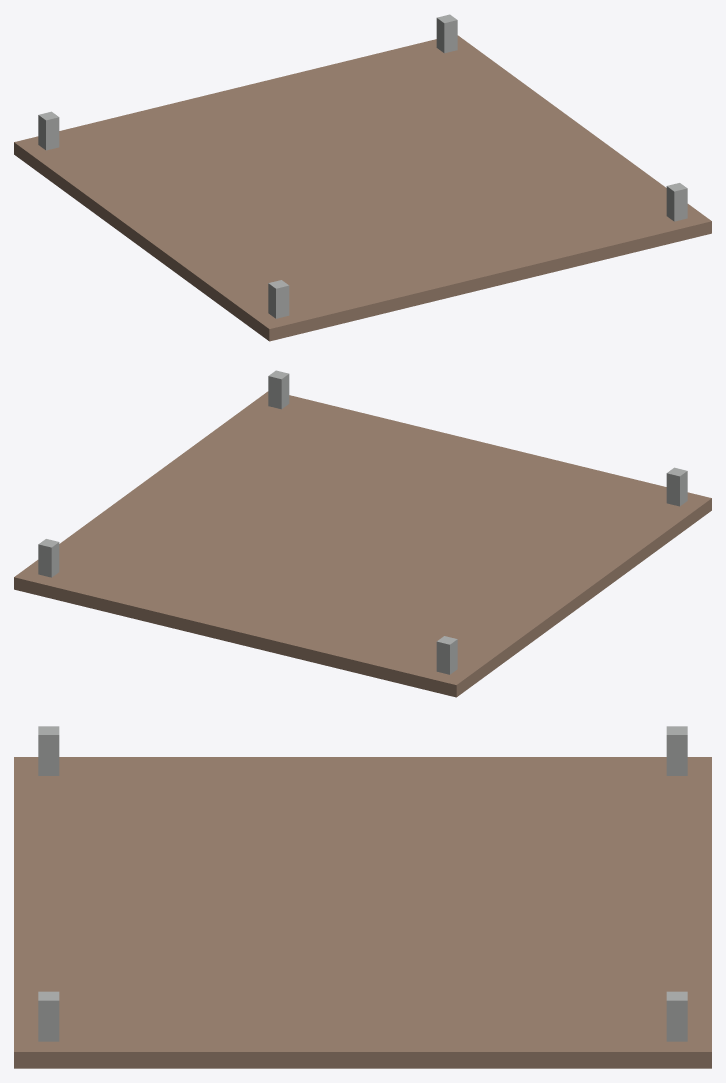
File: martial_training_yard_6m.glb
The picture shows the model from 3 angles, top to bottom: view 1: azimuth 30°, elevation 25°; view 2: azimuth 150°, elevation 25°; view 3: azimuth 270°, elevation 25°; orthographic projection. The views are drawn at different scales.
Parts seen in each view (by area): view 1: soil, stone; view 2: soil, stone; view 3: soil, stone.
Boxes of the visible parts, x1,y1,x2,y2 form: soil: (14, 35, 711, 341); stone: (38, 14, 687, 318); soil: (14, 391, 711, 697); stone: (38, 370, 687, 674); soil: (14, 757, 711, 1068); stone: (38, 726, 687, 1041).
Bounding box in the file's own units: 6 × 0.55 × 6.
